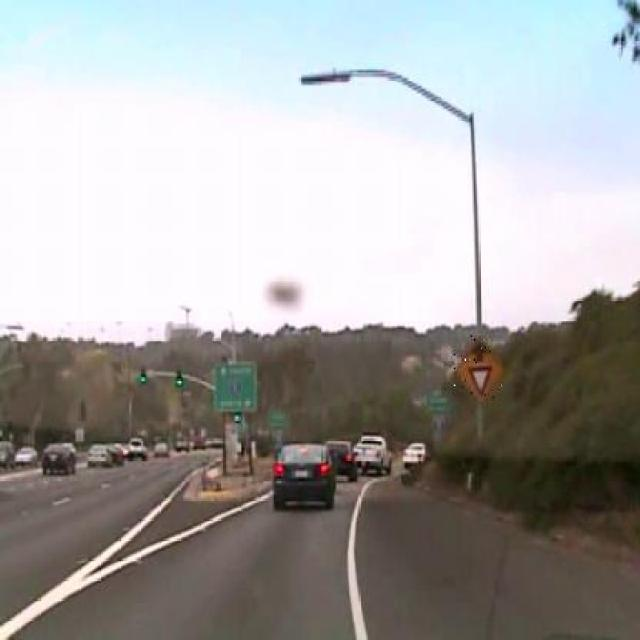yieldAhead: (454, 335, 503, 404)
